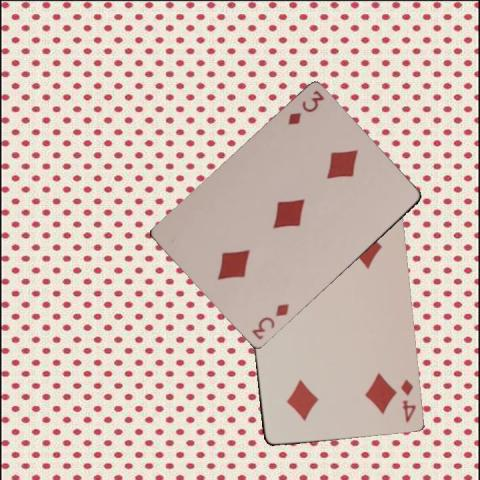3d: (249, 301, 291, 341), (284, 88, 326, 128)
4d: (398, 376, 418, 423)
